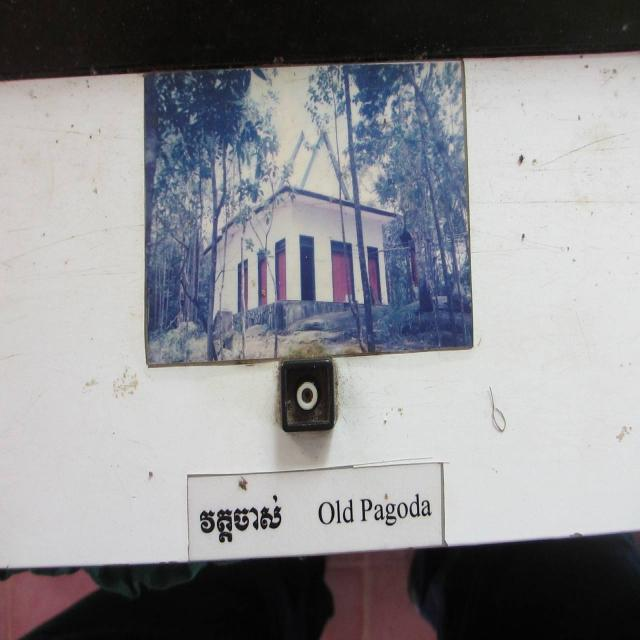Yolov11kh: (192, 485, 285, 546)
